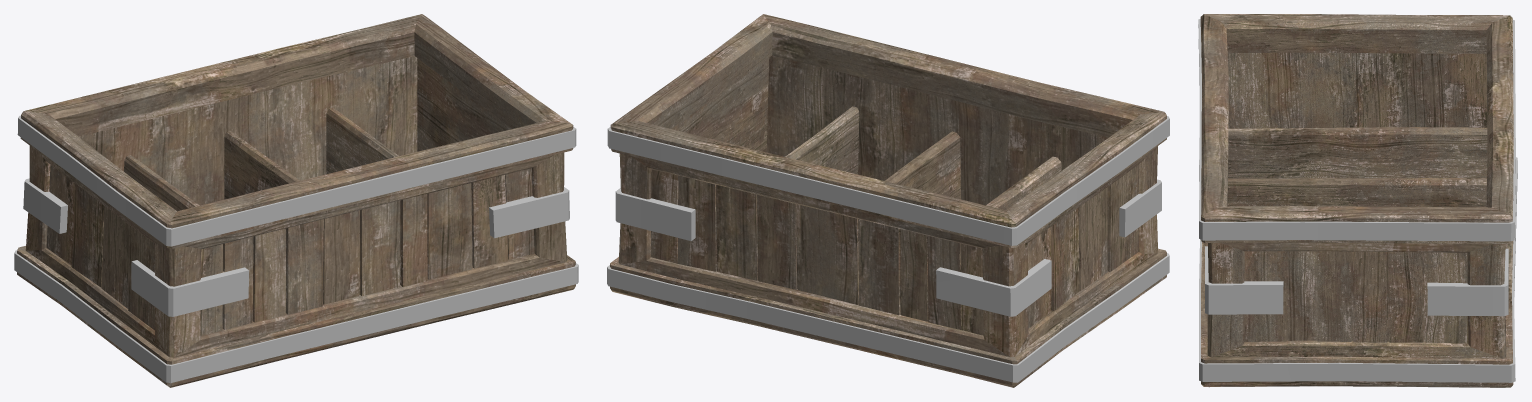
Rendered from SM_Crate_A_01.fbx.
3 views of the same model, side by side, from view 1: azimuth 30°, elevation 25°; view 2: azimuth 150°, elevation 25°; view 3: azimuth 270°, elevation 25° (orthographic). The views are drawn at different scales.
Visible parts, largest first — view 1: SM_Crate_A_01_LOD0; view 2: SM_Crate_A_01_LOD0; view 3: SM_Crate_A_01_LOD0.
Boxes of the visible parts, bbox=[...] form: SM_Crate_A_01_LOD0: bbox=[14, 14, 578, 387]; SM_Crate_A_01_LOD0: bbox=[607, 14, 1169, 387]; SM_Crate_A_01_LOD0: bbox=[1198, 14, 1517, 387].
Size of the model in its own units: 90.35 by 59.01 by 35.88.
